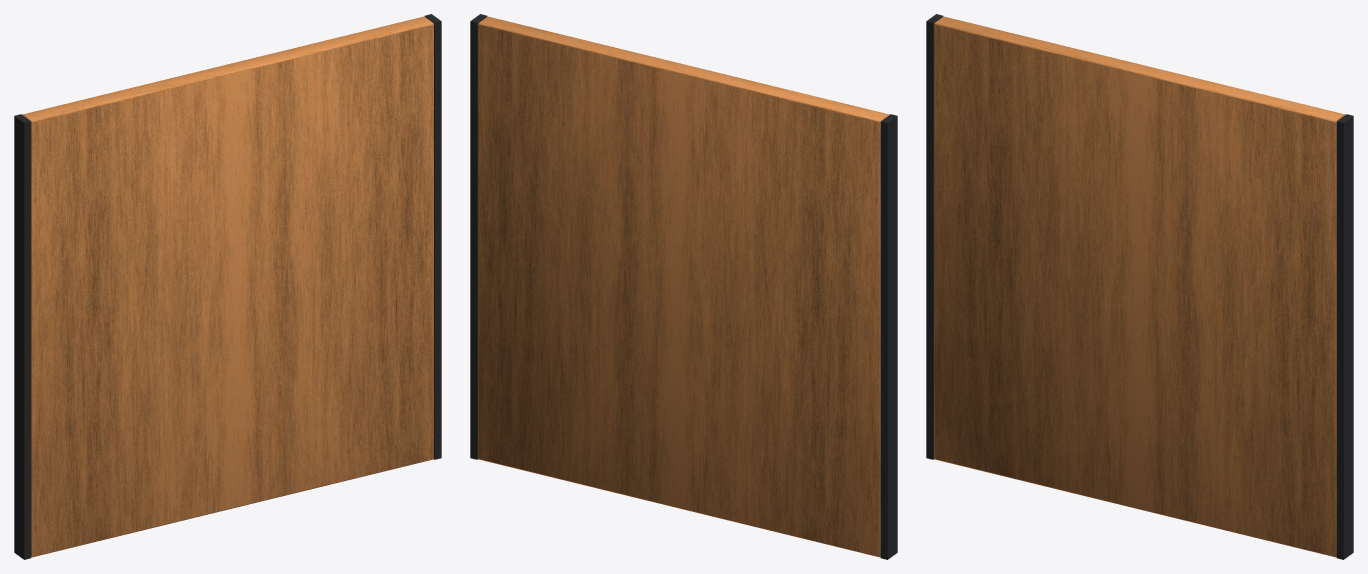
Rendered from partition.low-partition-wood.glb.
3 views of the same model, side by side, from view 1: azimuth 30°, elevation 25°; view 2: azimuth 150°, elevation 25°; view 3: azimuth 330°, elevation 25° (orthographic).
Parts seen in each view (by area): view 1: partition.low-partition-wood.001; view 2: partition.low-partition-wood.001; view 3: partition.low-partition-wood.001.
Boxes of the visible parts, bbox=[...] form: partition.low-partition-wood.001: bbox=[14, 14, 441, 559]; partition.low-partition-wood.001: bbox=[470, 14, 897, 559]; partition.low-partition-wood.001: bbox=[926, 14, 1353, 559].
Bounding box in the file's own units: 1.2 × 1.2 × 0.05.
2 materials, 1 textured.
